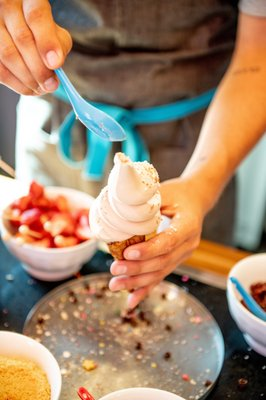sushi: (18, 273, 226, 400), (0, 184, 99, 282), (0, 329, 62, 400), (226, 252, 266, 358), (89, 387, 191, 400)
